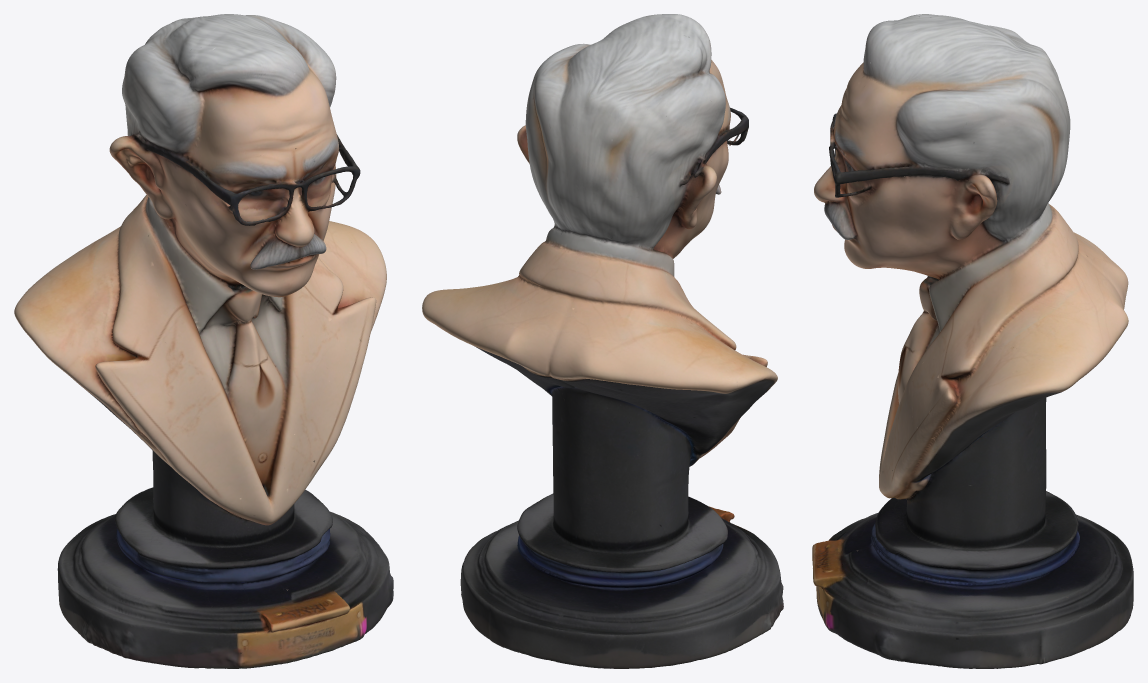
Rendered from serrafin.glb.
3 renders of one model, left to right at view 1: azimuth 30°, elevation 25°; view 2: azimuth 150°, elevation 25°; view 3: azimuth 270°, elevation 25°, orthographic. The views are drawn at different scales.
Bounding box in the file's own units: 1.25 × 2 × 1.02.
Materials: 1 (1 with a texture image).
